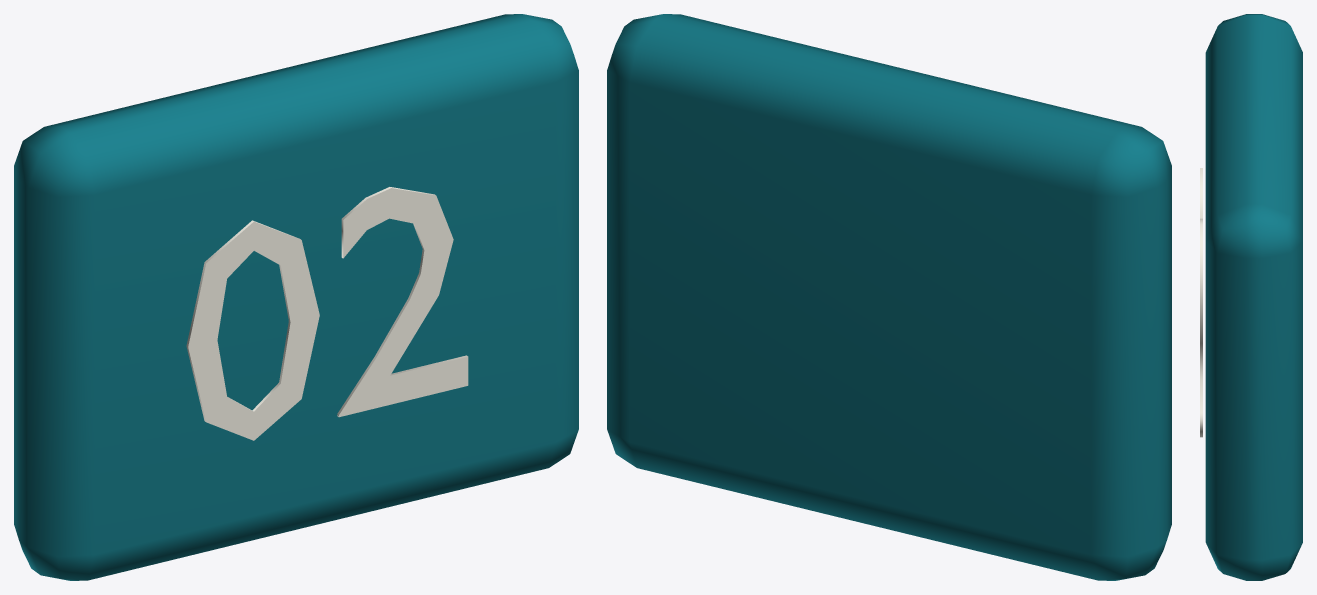
Rendered from Recovery_Bay_Sign_02.glb.
3 renders of one model, left to right at view 1: azimuth 30°, elevation 25°; view 2: azimuth 150°, elevation 25°; view 3: azimuth 270°, elevation 25°, orthographic. The views are drawn at different scales.
Visible parts, largest first — view 1: Recovery_Bay_Sign_02__Visual; view 2: Recovery_Bay_Sign_02__Visual; view 3: Recovery_Bay_Sign_02__Visual.
Part boxes in pixels (<box>): Recovery_Bay_Sign_02__Visual: <box>14,14,578,580</box>; Recovery_Bay_Sign_02__Visual: <box>607,14,1171,580</box>; Recovery_Bay_Sign_02__Visual: <box>1200,14,1302,580</box>.
Bounding box in the file's own units: 0.37 × 0.29 × 0.072.
Materials: 1 (1 with a texture image).
